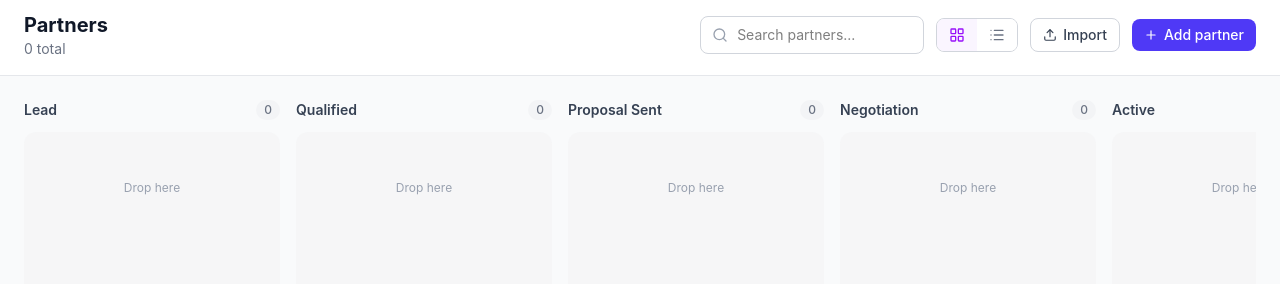
Test case: PartnersPage › shows "No partners found" in list view when empty
This screenshot has width=1280, height=284.
Click the button titled "List view" at (997, 35), box [977,19,1017,51]
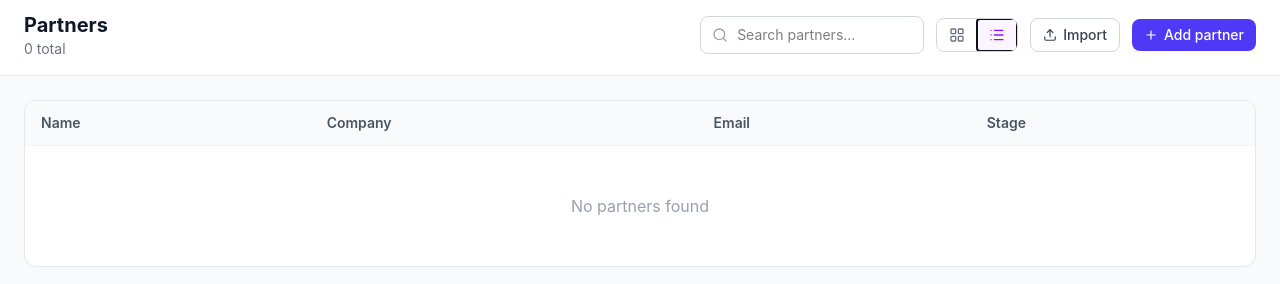
Expected: the text "No partners found" is shown, [571,196,709,216]
